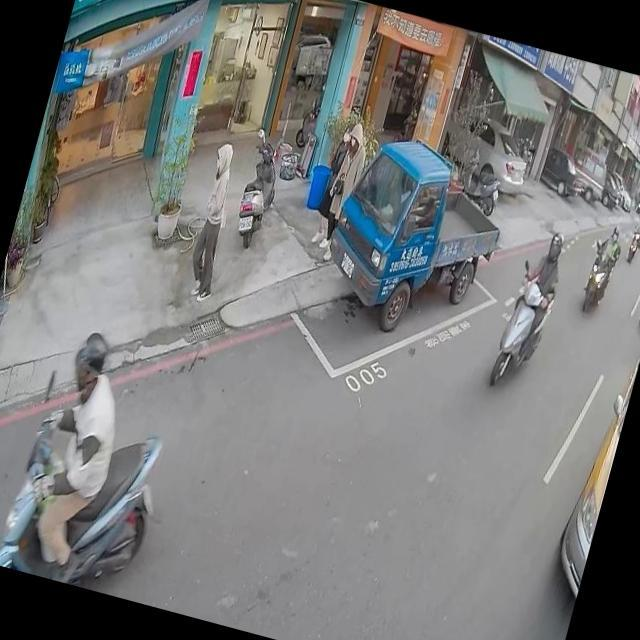person: (3, 318, 148, 586), (174, 138, 252, 303), (500, 224, 571, 366), (309, 117, 376, 260), (308, 126, 361, 243), (578, 220, 626, 306), (630, 210, 640, 238)
